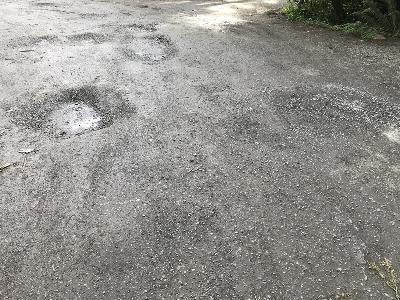pothole: (266, 82, 399, 140), (23, 84, 131, 139), (113, 31, 180, 62), (3, 32, 60, 65), (67, 31, 109, 47)
